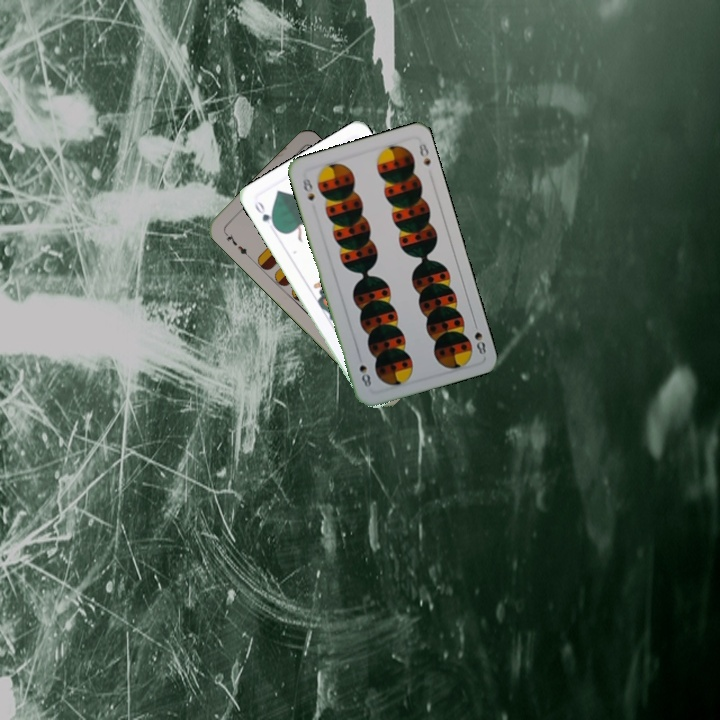E7: (220, 228, 252, 261)
GO: (250, 197, 279, 232)
S8: (469, 317, 489, 357), (298, 172, 317, 203)
